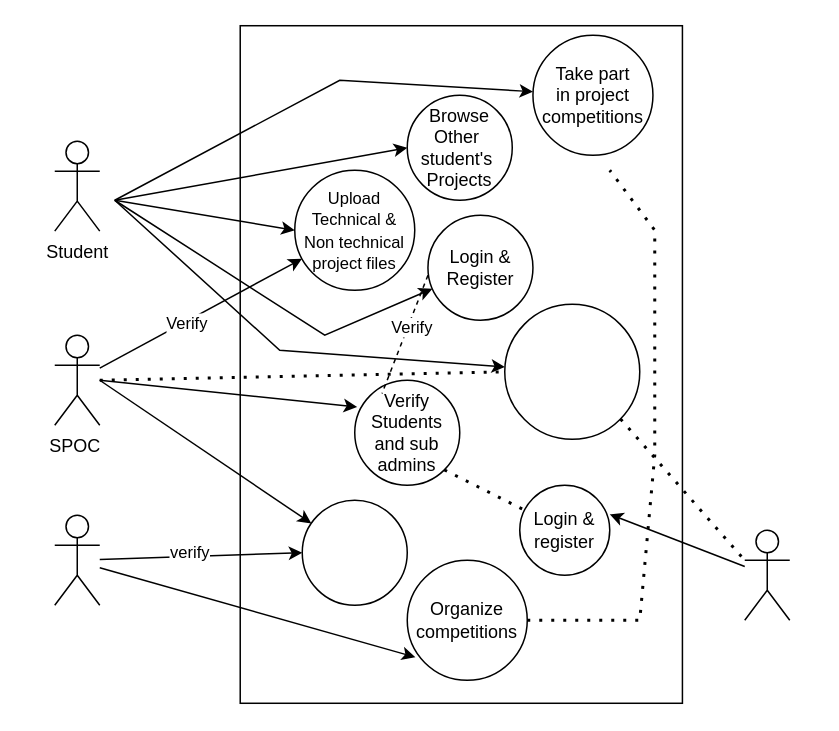
The diagram is 839 pixels wide and 731 high, and some of its shapes have lost their labels. Here are the shapes that lost their labels. From the top down, the centre of each, then its label:
At pixel 571 371: "Make a collaboration request to other university students".
At pixel 76 559: "Super Admin".
At pixel 354 552: "Register University & login".
At pixel 766 574: "Sub Admin Under spoc".
